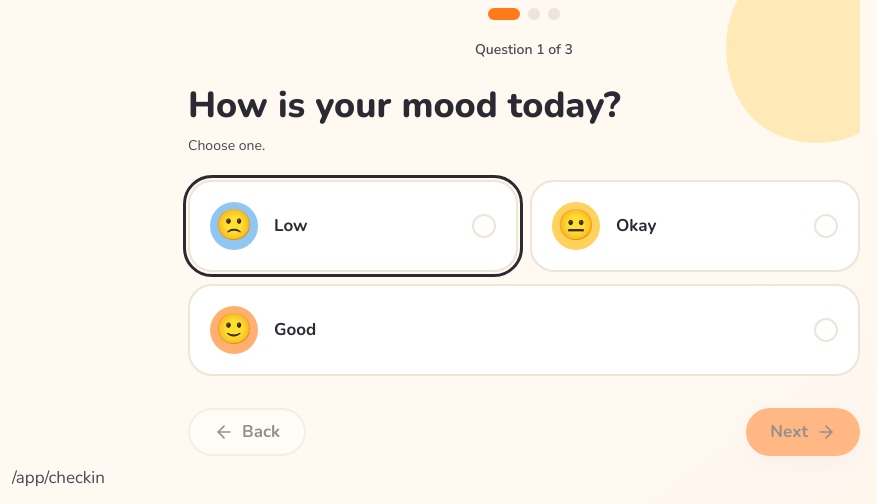
Test: Check-in flow › when the server says crisis: true, goes straight to the crisis screen with the helpline info
Later steps or results of the test are not shown.
What coordinates should you click on to do the following:
click the radio button labelled "Low"
I would click on:
 (234, 226)
Its box is [188,180,518,272].
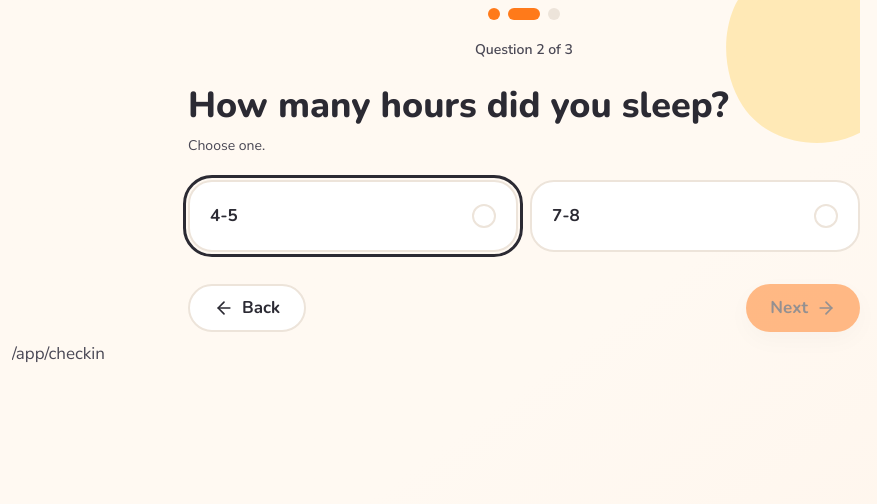
Expected: the text "Question 2 of 3" is shown, [475,40,573,59]
What coordinates should you click on to do the following:
click the radio button labelled "4-5"
I would click on:
 (224, 216)
Its box is [188,180,518,252].
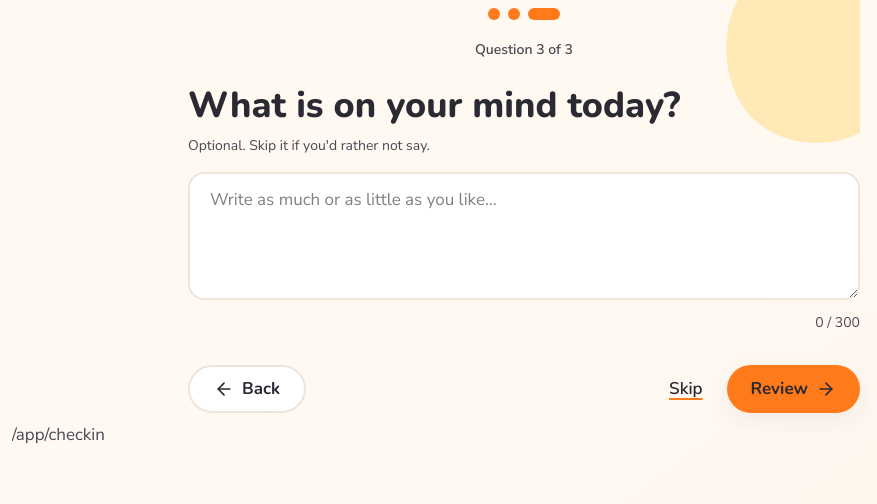
Expected: the text "Question 3 of 3" is shown, [475,40,573,59]
